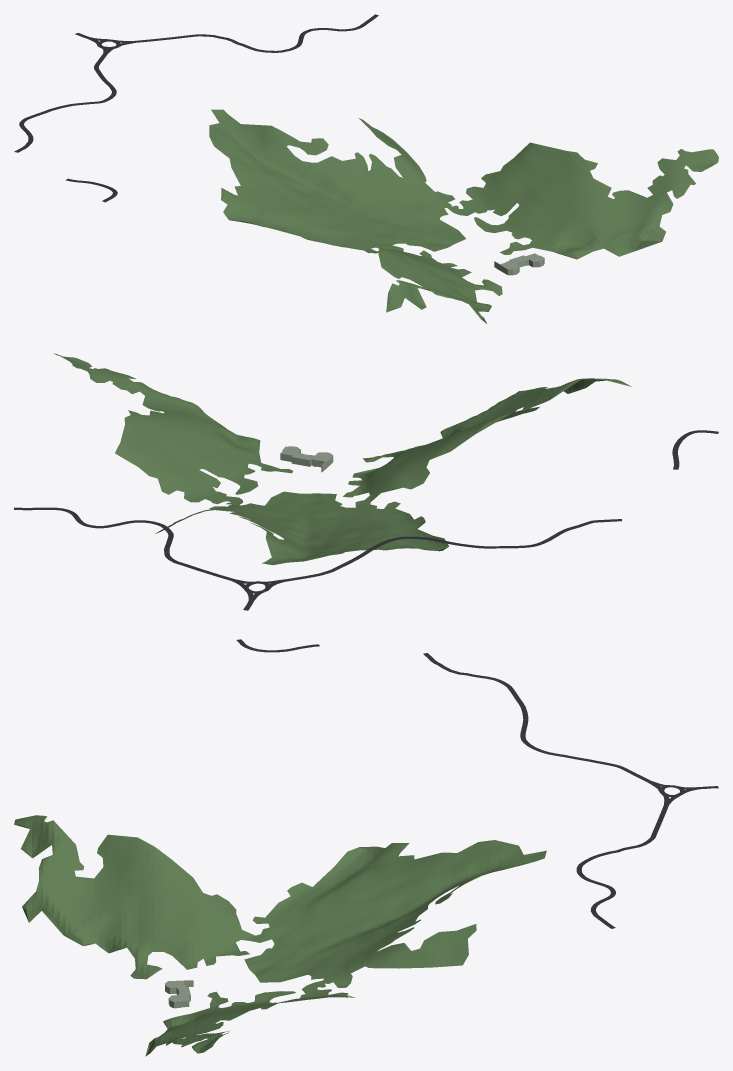
File: tile_3_5.glb
3 renders of one model, top to bottom at view 1: azimuth 30°, elevation 25°; view 2: azimuth 150°, elevation 25°; view 3: azimuth 270°, elevation 25°, orthographic. The views are drawn at different scales.
Parts seen in each view (by area): view 1: grn_3_5, road_3_5, bld_3_5; view 2: grn_3_5, road_3_5, bld_3_5; view 3: grn_3_5, road_3_5, bld_3_5.
Boxes of the visible parts, x1,y1,x2,y2 form: grn_3_5: [209, 109, 718, 323]; road_3_5: [14, 14, 378, 202]; bld_3_5: [494, 253, 544, 275]; grn_3_5: [53, 353, 631, 565]; road_3_5: [14, 430, 718, 610]; bld_3_5: [280, 446, 333, 472]; grn_3_5: [14, 815, 546, 1056]; road_3_5: [236, 639, 718, 928]; bld_3_5: [165, 980, 193, 1008].
Size of the model in its own units: 1075 by 244 by 1009.
